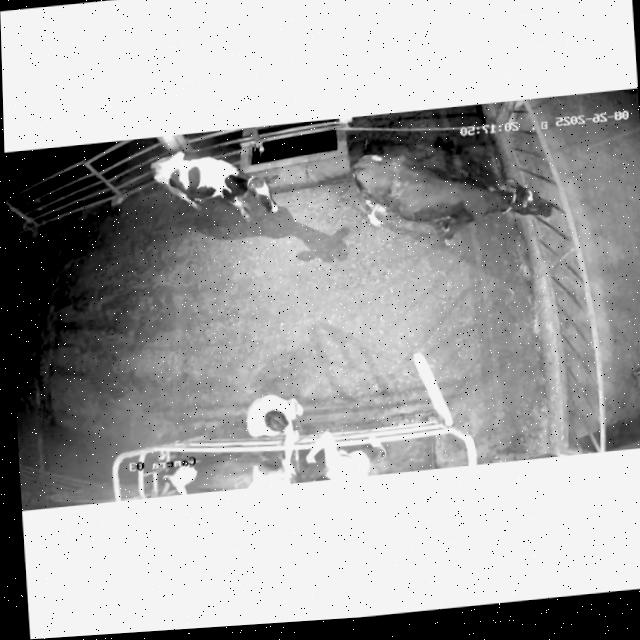stand: (353, 153, 552, 243), (150, 150, 279, 220)
